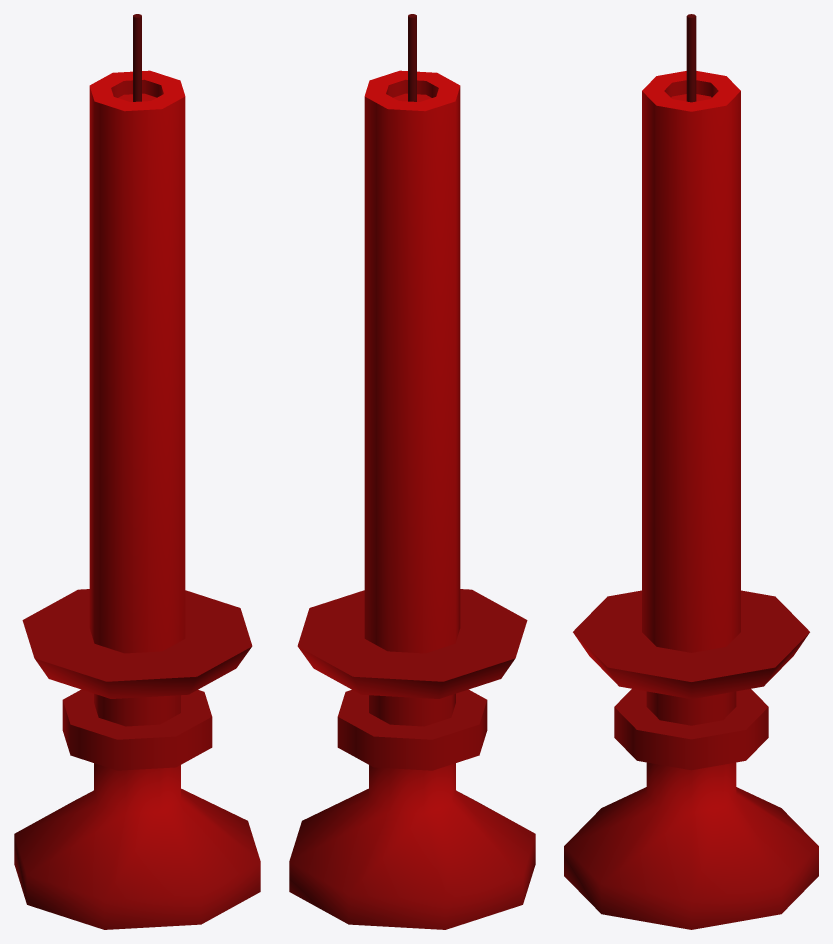
File: Candle.glb
3 renders of one model, left to right at view 1: azimuth 30°, elevation 25°; view 2: azimuth 150°, elevation 25°; view 3: azimuth 270°, elevation 25°, orthographic.
Parts seen in each view (by area): view 1: Candle; view 2: Candle; view 3: Candle.
Boxes of the visible parts, x1,y1,x2,y2 form: Candle: [14, 14, 260, 929]; Candle: [289, 14, 535, 929]; Candle: [564, 14, 818, 929].
Bounding box in the file's own units: 4.36 × 16.23 × 4.36.
